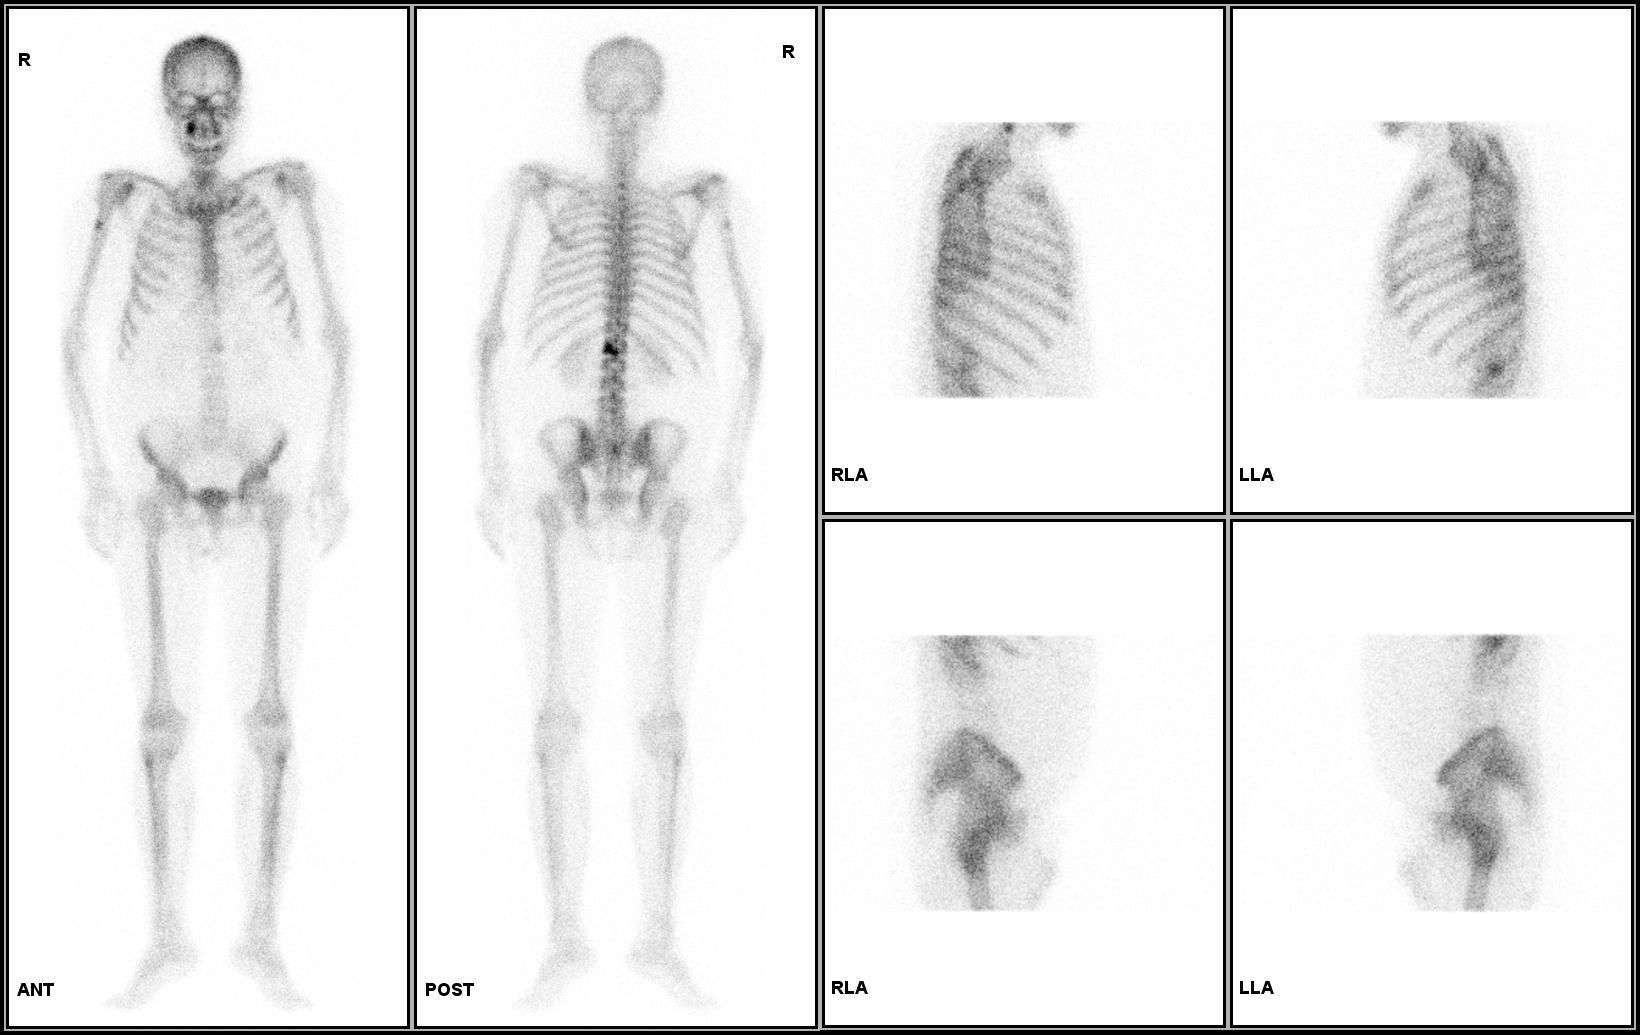person: (5, 6, 818, 1028)
